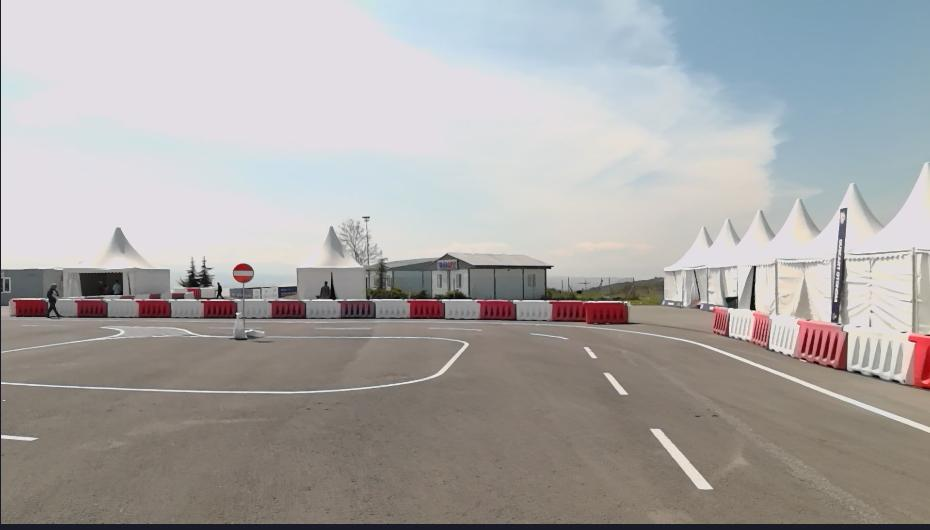nesne: (268, 317, 929, 528), (267, 318, 737, 526), (533, 320, 928, 529), (264, 320, 928, 437), (0, 335, 468, 392), (706, 305, 928, 391), (237, 298, 631, 323), (1, 324, 229, 353), (845, 325, 915, 387), (649, 425, 713, 490), (54, 299, 238, 319), (793, 317, 842, 366), (550, 301, 628, 323), (767, 312, 796, 356), (910, 334, 928, 389), (747, 306, 770, 347), (729, 306, 754, 340), (514, 300, 554, 321), (477, 300, 515, 321), (339, 299, 375, 321), (409, 298, 445, 319), (374, 297, 410, 317), (235, 298, 271, 317), (443, 300, 479, 319), (307, 298, 341, 318), (75, 297, 107, 318), (8, 300, 48, 316), (140, 297, 171, 317), (202, 299, 236, 317), (270, 301, 306, 318), (169, 299, 202, 317), (108, 299, 139, 318), (603, 372, 627, 394), (46, 283, 62, 315), (0, 430, 39, 443), (52, 298, 77, 318), (709, 306, 727, 333), (231, 311, 248, 339), (232, 264, 253, 284), (534, 332, 567, 340), (318, 279, 329, 298), (242, 327, 265, 336), (188, 286, 202, 300), (583, 346, 598, 357), (215, 280, 222, 298), (202, 287, 213, 298), (173, 287, 187, 291)
